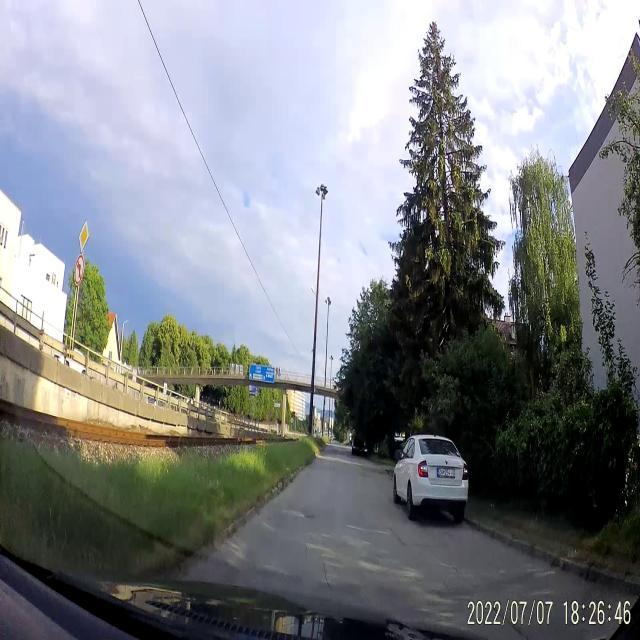Pothole: (282, 500, 314, 530)
